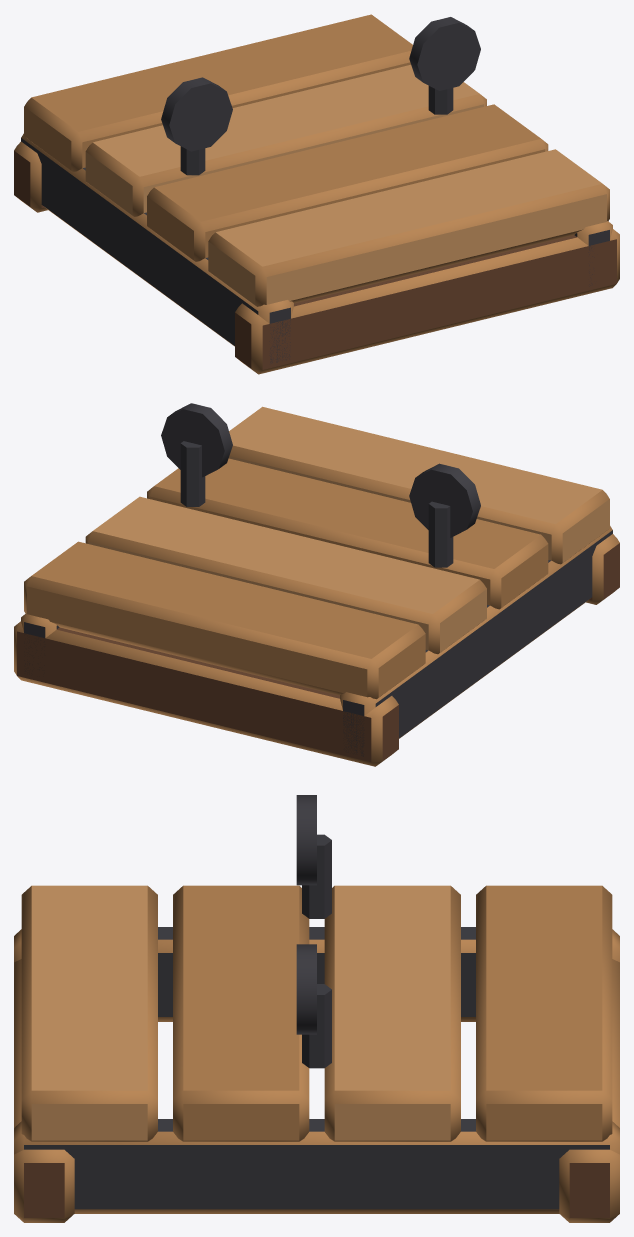
The model's file is tide_hanging.glb.
The picture shows the model from 3 angles, top to bottom: view 1: azimuth 30°, elevation 25°; view 2: azimuth 150°, elevation 25°; view 3: azimuth 270°, elevation 25°; orthographic projection. The views are drawn at different scales.
Parts seen in each view (by area): view 1: tide_hanging; view 2: tide_hanging; view 3: tide_hanging.
Part boxes in pixels (x1,y1,x2,y2): tide_hanging: (14,14,619,374); tide_hanging: (14,403,619,766); tide_hanging: (14,795,619,1222).
Bounding box in the file's own units: 1.04 × 0.5256 × 1.2.
